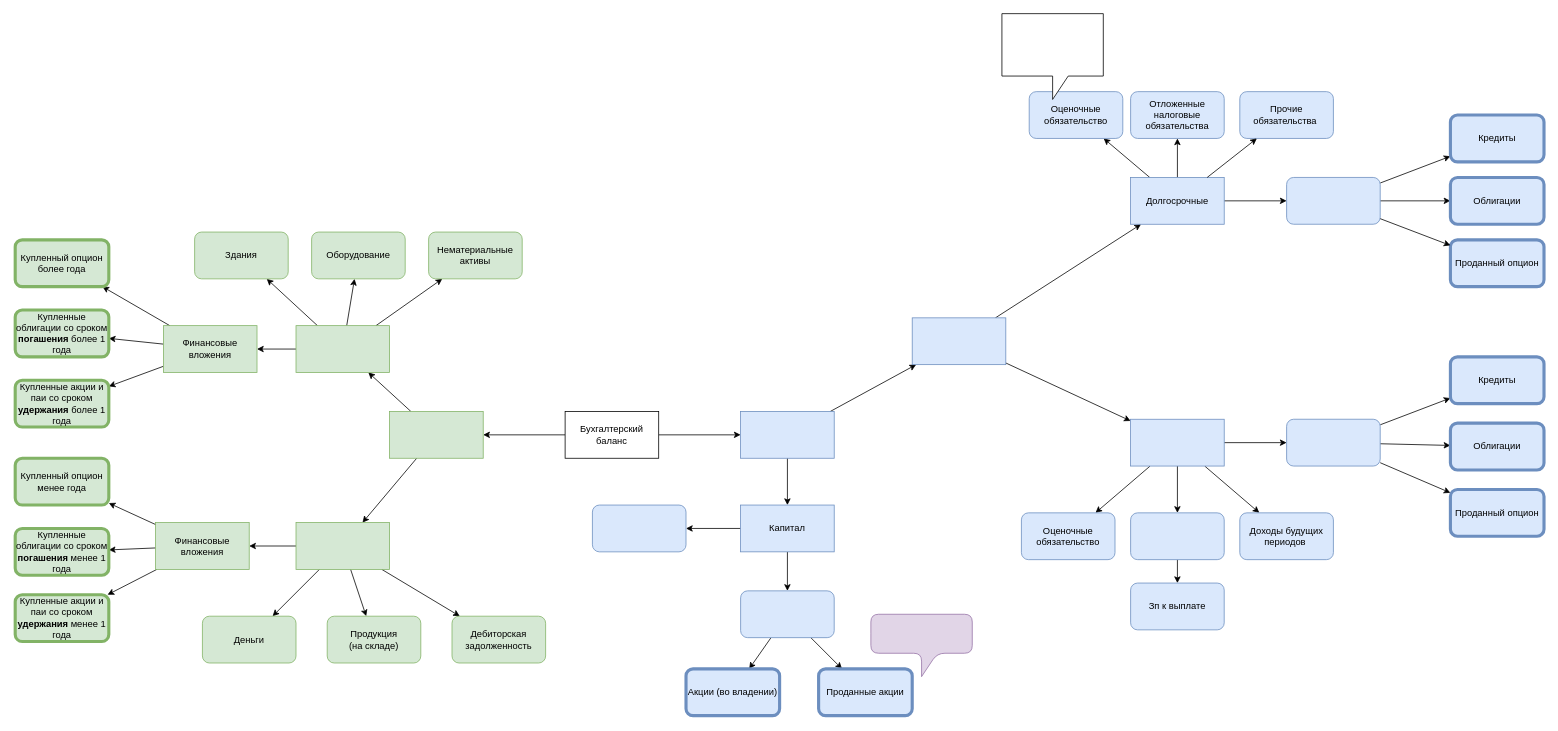
Image size: 1558x731. Some labels were removed from this diagram. Here are the shapes that lost their labels. From the top down, the centre of each, then its label:
At (x=1052, y=56): "Неизвестно сколько надо заплатить точно, но резервируем под оплату заранее".
At (x=1333, y=200): "Займы более 1 года".
At (x=342, y=348): "Внеоборотные".
At (x=958, y=341): "Обязательства".
At (x=436, y=434): "Активы".
At (x=787, y=434): "Пассивы".
At (x=1177, y=442): "Краткосрочные".
At (x=1333, y=442): "Займы менее 1 года".
At (x=342, y=545): "Оборотные".
At (x=639, y=528): "Нераспределенная прибыль".
At (x=1177, y=536): "Кредиторская задолженность".
At (x=787, y=614): "Уставной капитал".
At (x=921, y=645): "Как это правильно отображается?".
